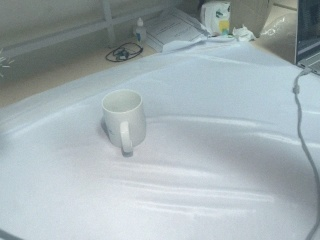bottle: (134, 17, 147, 46)
cup: (100, 88, 149, 157)
